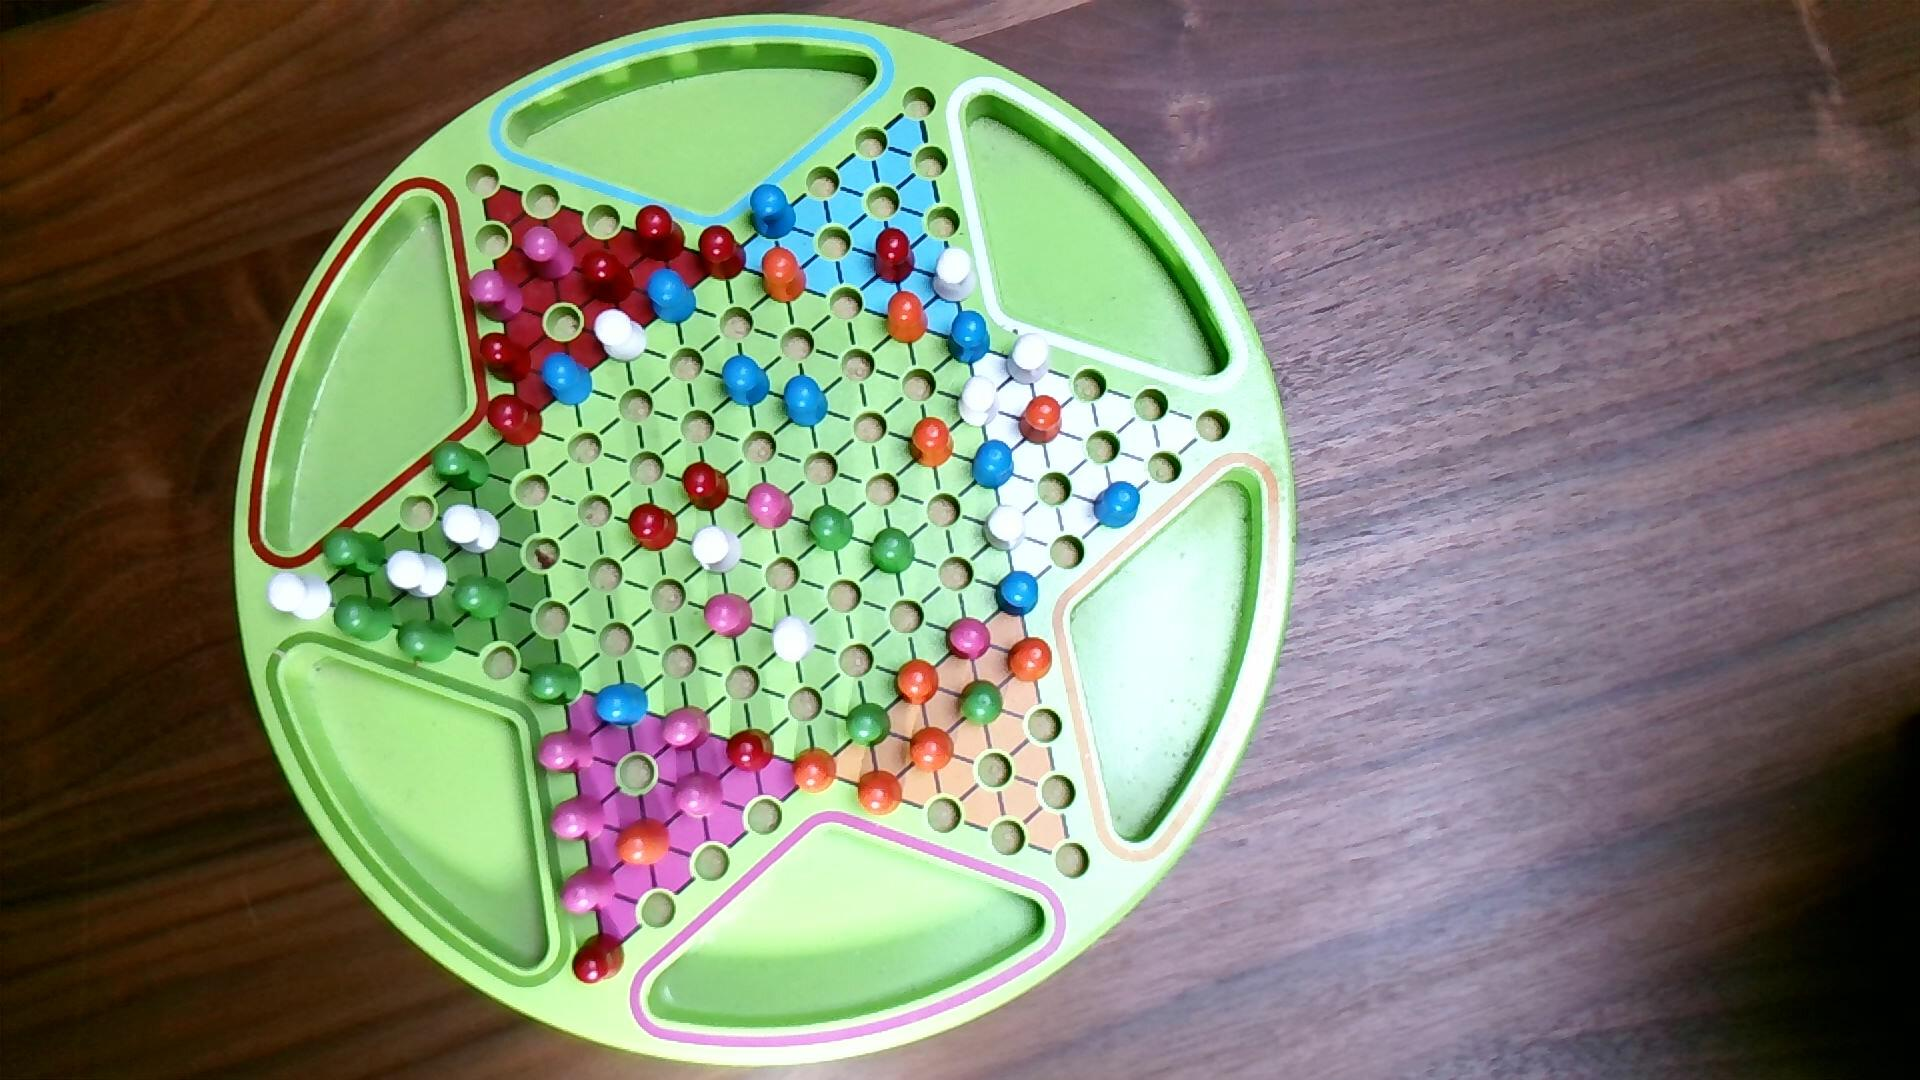B: (644, 266, 699, 328), (538, 351, 596, 409), (720, 352, 773, 411), (592, 680, 650, 732), (748, 183, 798, 243), (1091, 479, 1143, 531), (945, 309, 993, 367), (781, 375, 831, 429), (993, 568, 1042, 621), (969, 438, 1015, 492)
G: (320, 526, 388, 580), (429, 439, 492, 495), (332, 593, 396, 645), (450, 574, 513, 622), (396, 618, 458, 666), (525, 661, 584, 708), (804, 502, 856, 555), (956, 678, 1006, 729), (869, 526, 918, 578), (845, 702, 894, 749)
O: (613, 815, 673, 870), (760, 245, 808, 306), (906, 415, 957, 469), (789, 745, 839, 796), (855, 769, 906, 819), (885, 290, 930, 345), (1018, 394, 1064, 447), (893, 658, 942, 707), (909, 725, 956, 775), (1006, 636, 1054, 684)
R: (485, 392, 545, 448), (579, 248, 636, 306), (633, 204, 687, 265), (477, 331, 534, 386), (570, 931, 626, 986), (698, 223, 749, 284), (872, 225, 918, 287), (626, 502, 680, 555), (680, 462, 732, 516), (725, 728, 775, 775)
R2: (467, 268, 527, 324), (520, 225, 578, 284), (559, 862, 618, 916), (547, 793, 607, 847), (535, 727, 597, 777), (670, 769, 727, 822), (659, 703, 713, 756), (702, 592, 756, 644), (744, 481, 796, 531), (943, 615, 993, 663)
W: (385, 549, 451, 603), (266, 571, 334, 622), (591, 309, 650, 367), (440, 502, 502, 556), (690, 524, 746, 578), (931, 247, 980, 306), (956, 373, 1002, 430), (770, 615, 819, 667), (1005, 332, 1052, 386), (981, 502, 1029, 555)
